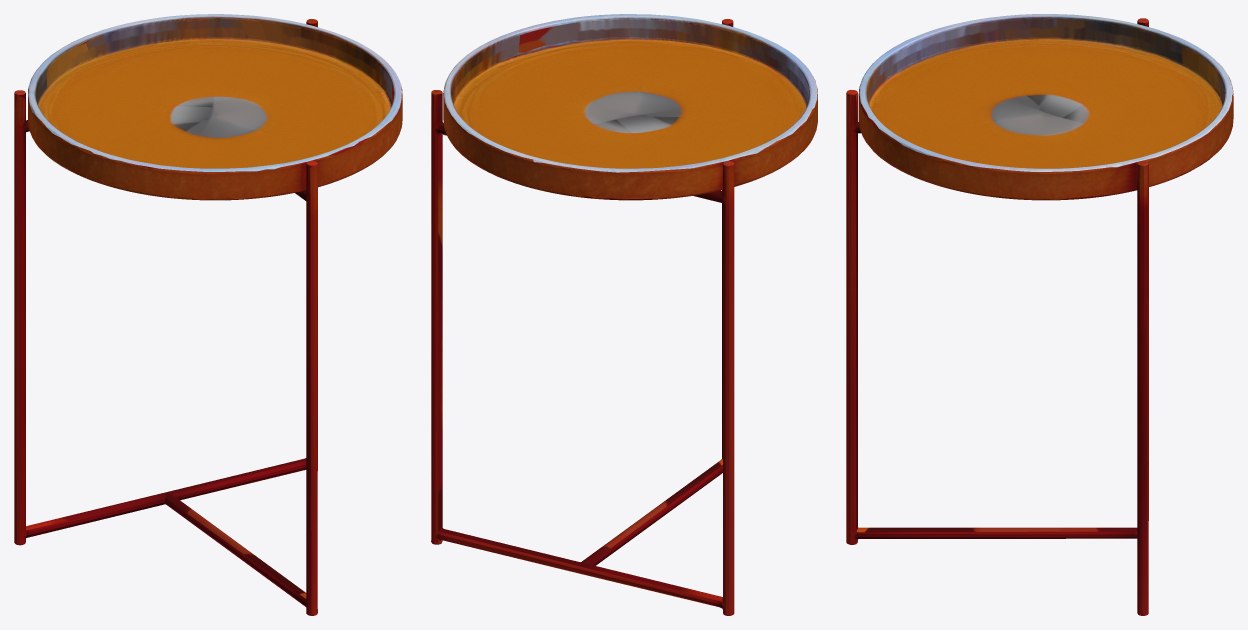
File: edited_mesh.glb
3 renders of one model, left to right at view 1: azimuth 30°, elevation 25°; view 2: azimuth 150°, elevation 25°; view 3: azimuth 270°, elevation 25°, orthographic.
Visible parts, largest first — view 1: normalized_model.obj; view 2: normalized_model.obj; view 3: normalized_model.obj.
Part boxes in pixels (<box>): normalized_model.obj: <box>14,14,402,615</box>; normalized_model.obj: <box>431,14,817,615</box>; normalized_model.obj: <box>846,14,1233,615</box>.
Bounding box in the file's own units: 1.09 × 1.44 × 1.12.
1 material, 1 textured.
